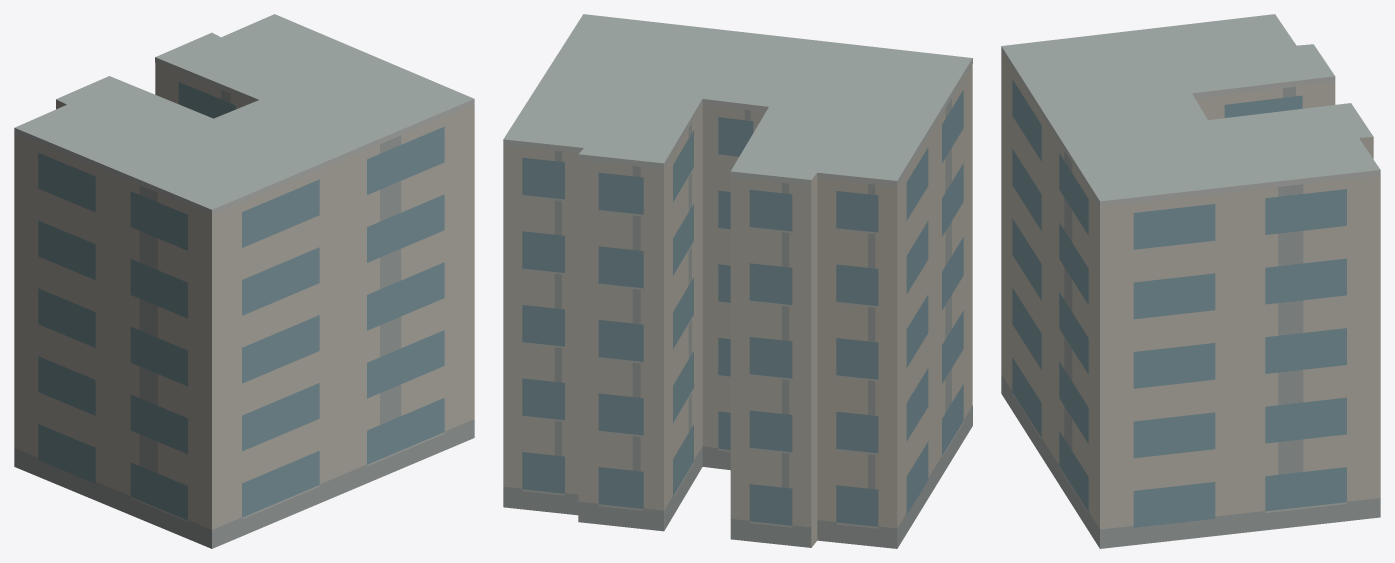
The model's file is survey-upis-32627491.glb.
3 views of the same model, side by side, from view 1: azimuth 30°, elevation 25°; view 2: azimuth 150°, elevation 25°; view 3: azimuth 270°, elevation 25° (orthographic). The views are drawn at different scales.
Visible parts, largest first — view 1: survey-upis-32627491.tmp; view 2: survey-upis-32627491.tmp; view 3: survey-upis-32627491.tmp.
Boxes of the visible parts, box(x1,y1,x2,y2) form: survey-upis-32627491.tmp: box(14, 14, 474, 548); survey-upis-32627491.tmp: box(503, 14, 972, 548); survey-upis-32627491.tmp: box(1001, 14, 1380, 548).
Bounding box in the file's own units: 17.3 × 14.95 × 14.8.
